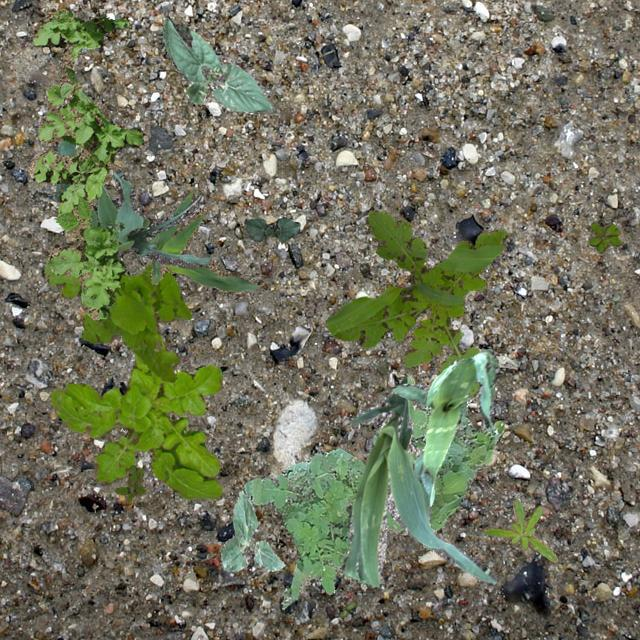crop: (340, 376, 496, 586), (52, 140, 210, 268), (392, 348, 498, 504), (150, 190, 264, 292), (162, 17, 270, 112), (220, 490, 284, 570), (244, 216, 298, 242)
weed: (242, 396, 502, 608), (26, 7, 142, 318), (326, 210, 507, 398), (48, 336, 220, 499), (44, 256, 190, 381), (482, 498, 556, 562), (114, 463, 144, 502), (588, 220, 620, 252)
